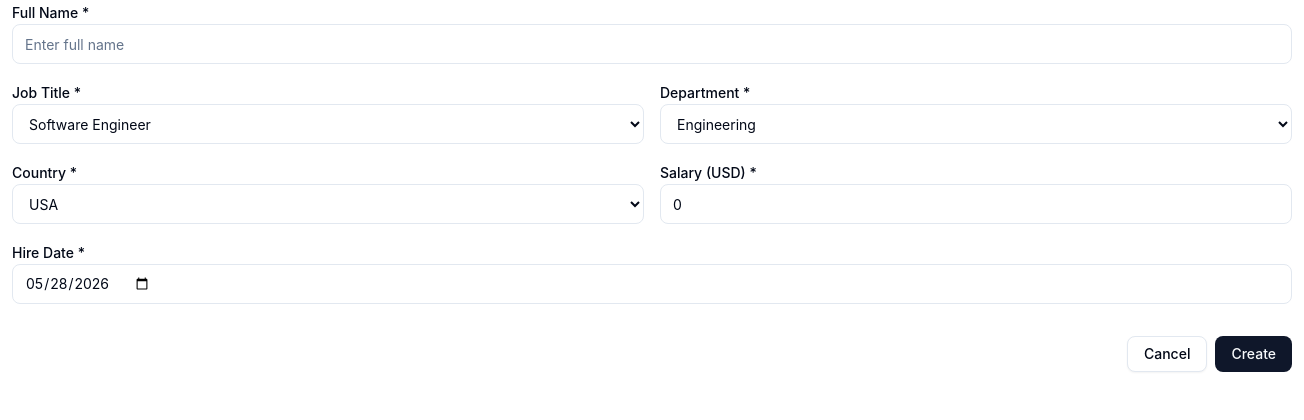
Test: EmployeeForm › should show validation error when salary is negative
Type "Jane Smith" into the field labelled "Full Name *" at (652, 44), box 12,24 -> 1292,64
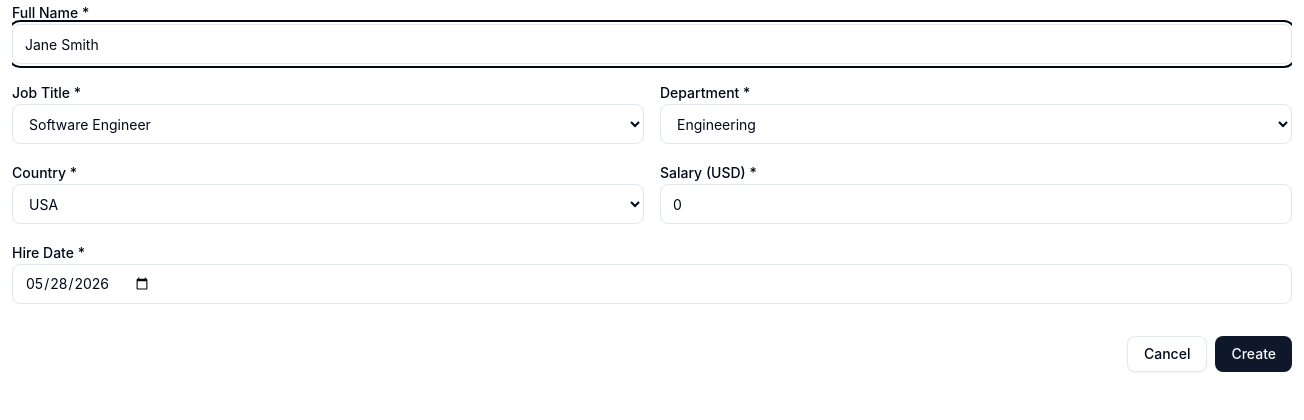
Replace the text in the number field labelled "Salary (USD) *" with "-5000" at (976, 204), box 660,184 -> 1292,224
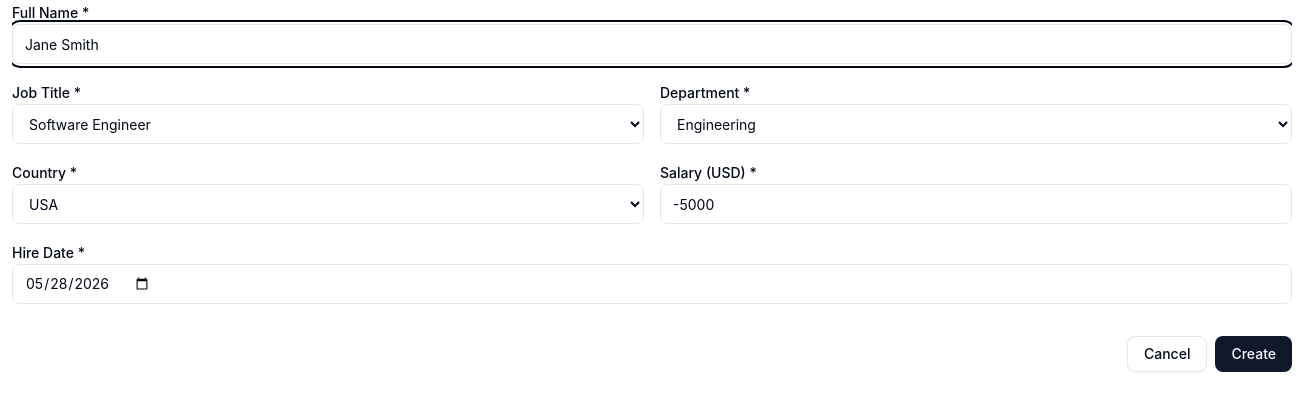
Click the button "Create" at (1254, 354), box 1215,336 -> 1292,372
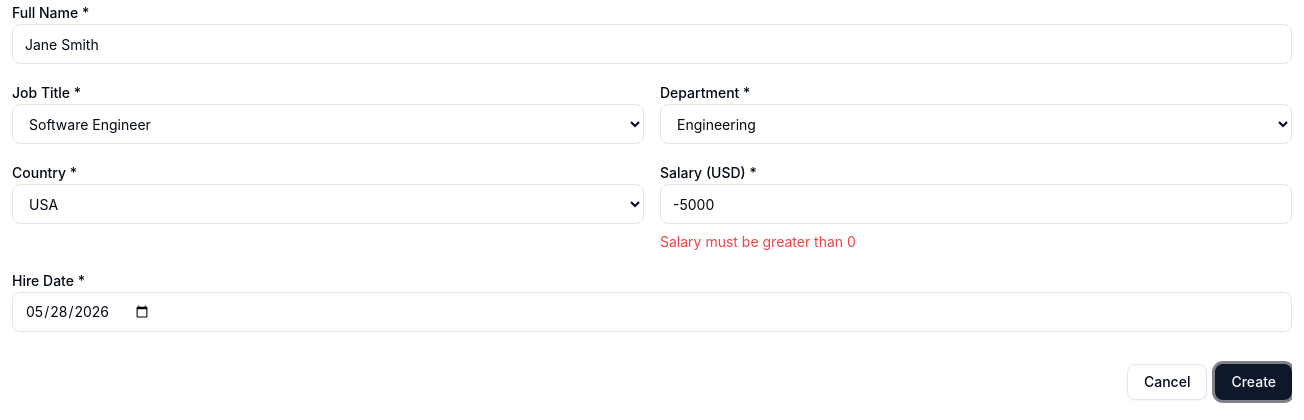
Expected: the text "Salary must be greater than 0" is shown, 660,233 -> 856,250
